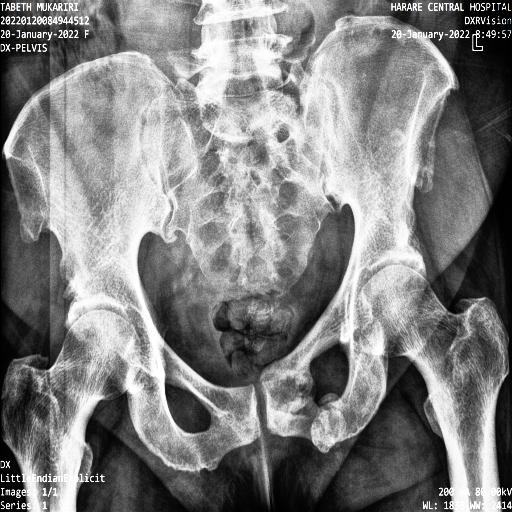normal: (358, 265, 510, 512), (1, 310, 142, 512)
